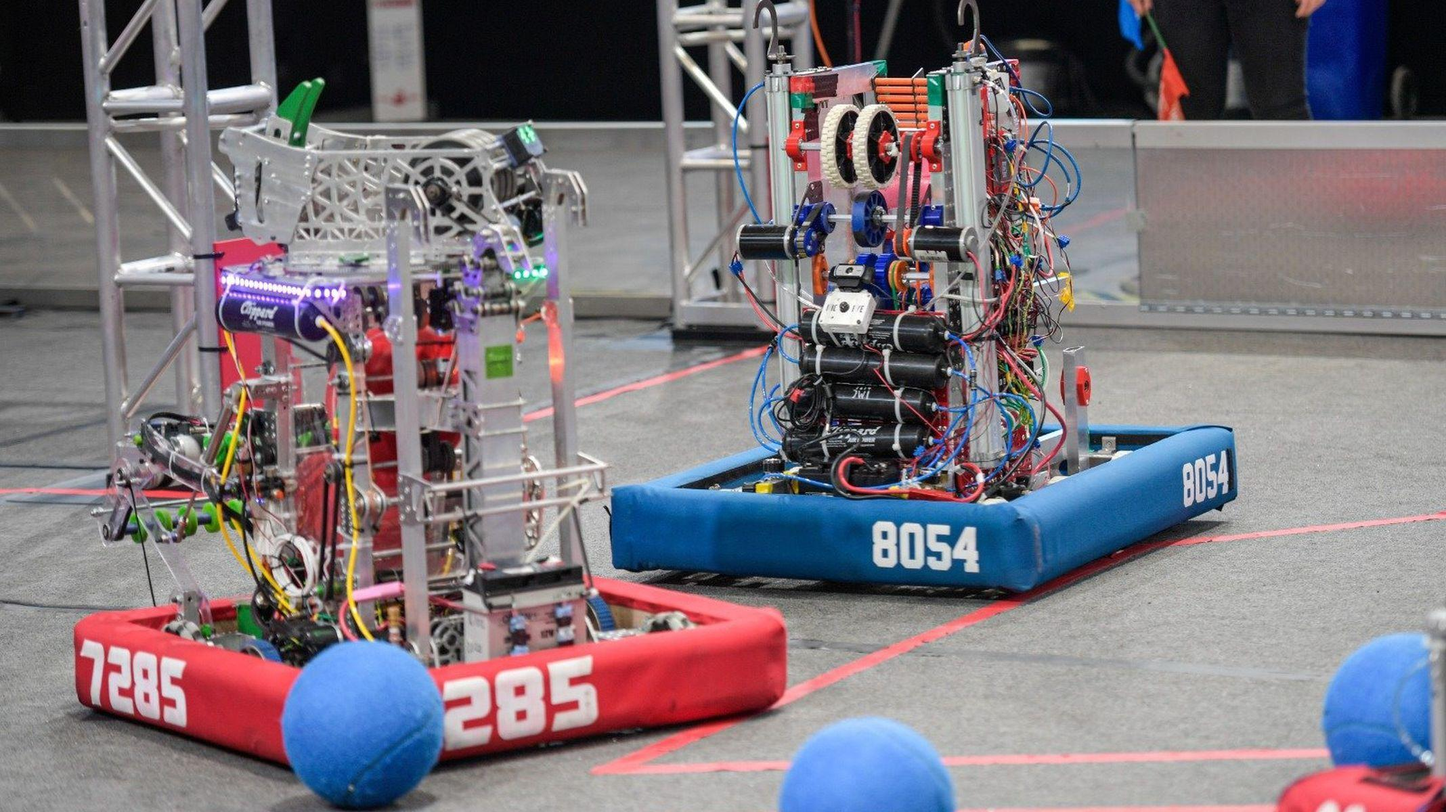robot: (69, 73, 794, 784), (607, 0, 1243, 607)
